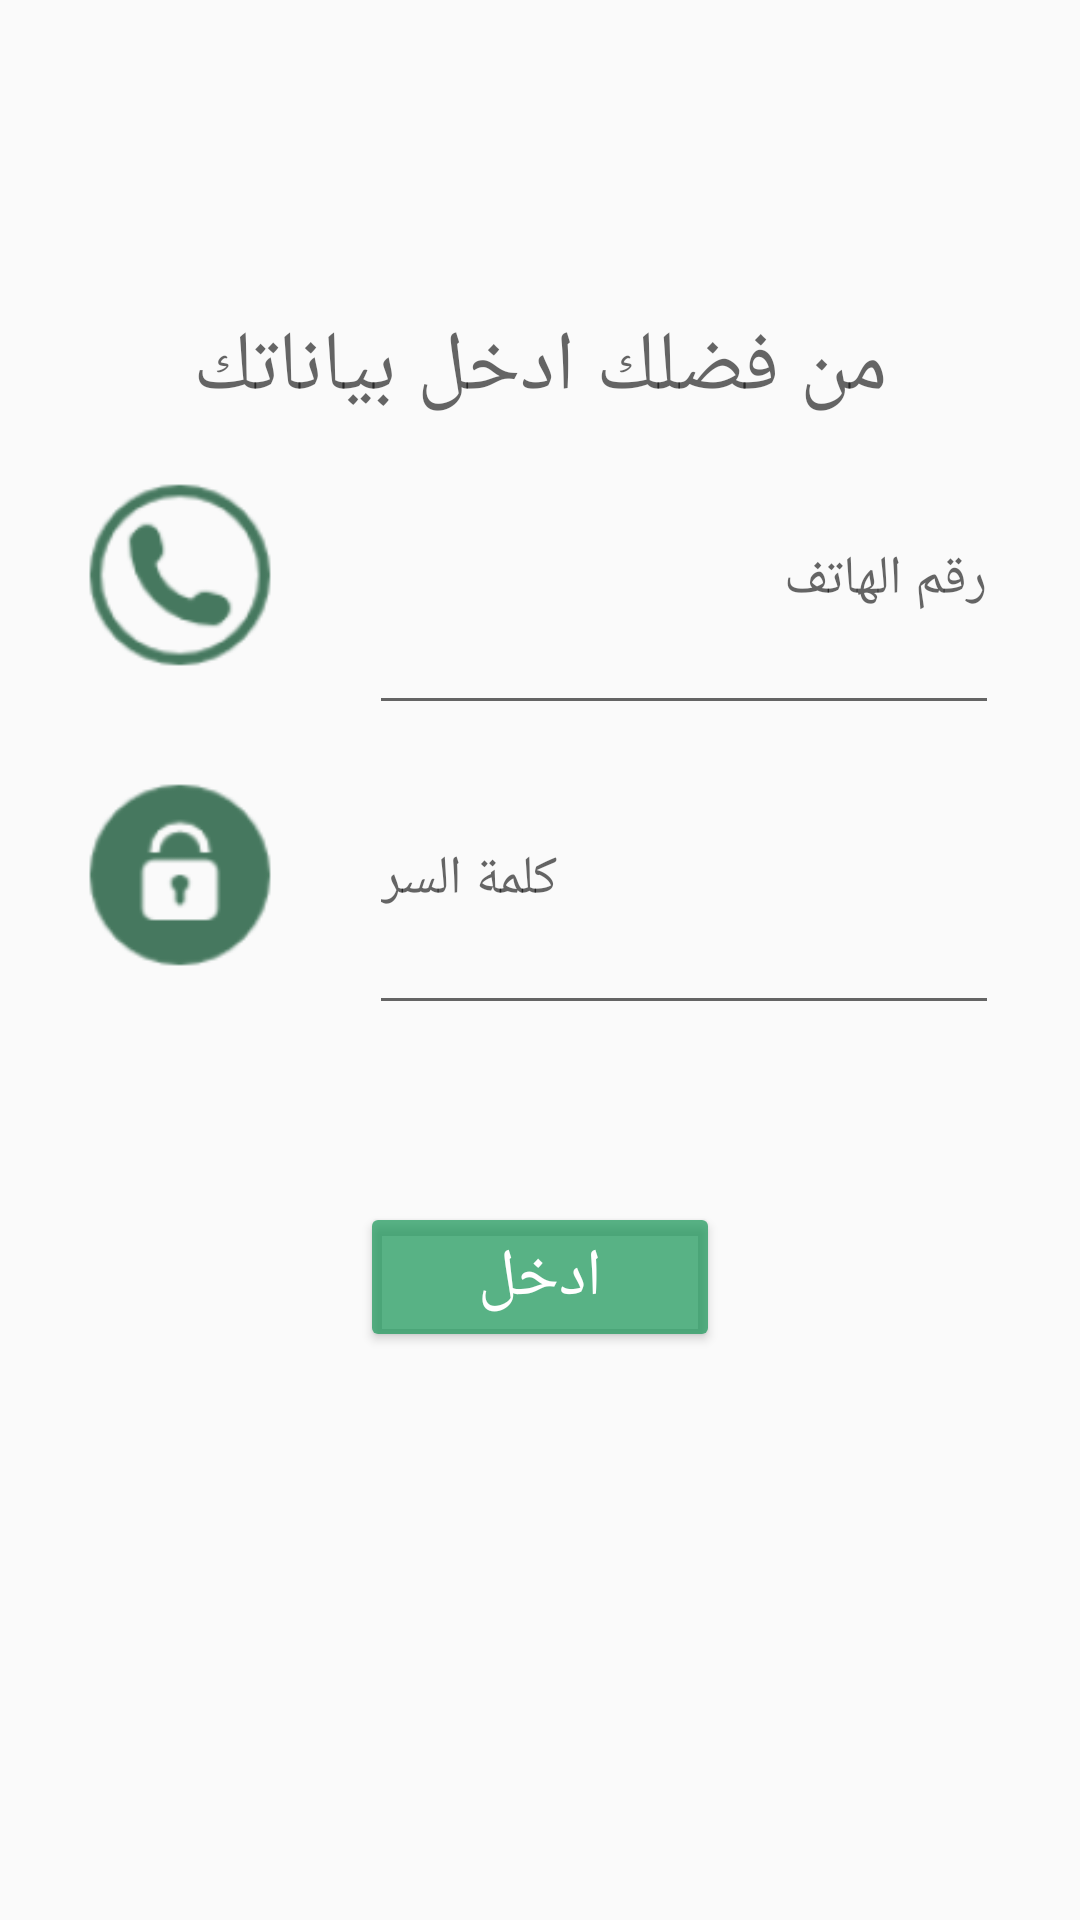

Named icons in this screenshot (1080×1920) and their centers, point (x, y):
lock: point (180, 875)
phone: point (180, 575)
